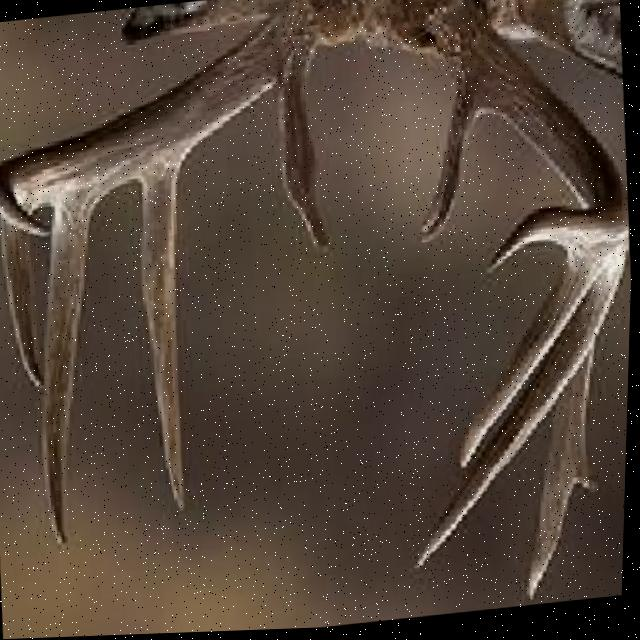L-F: (428, 0, 630, 277)
L-G1: (422, 84, 487, 249)
L-G4: (460, 251, 617, 474)
R-F: (0, 0, 328, 236)
R-G1: (276, 66, 335, 259)
R-G2: (139, 154, 189, 516)
R-G3: (45, 192, 106, 547)
